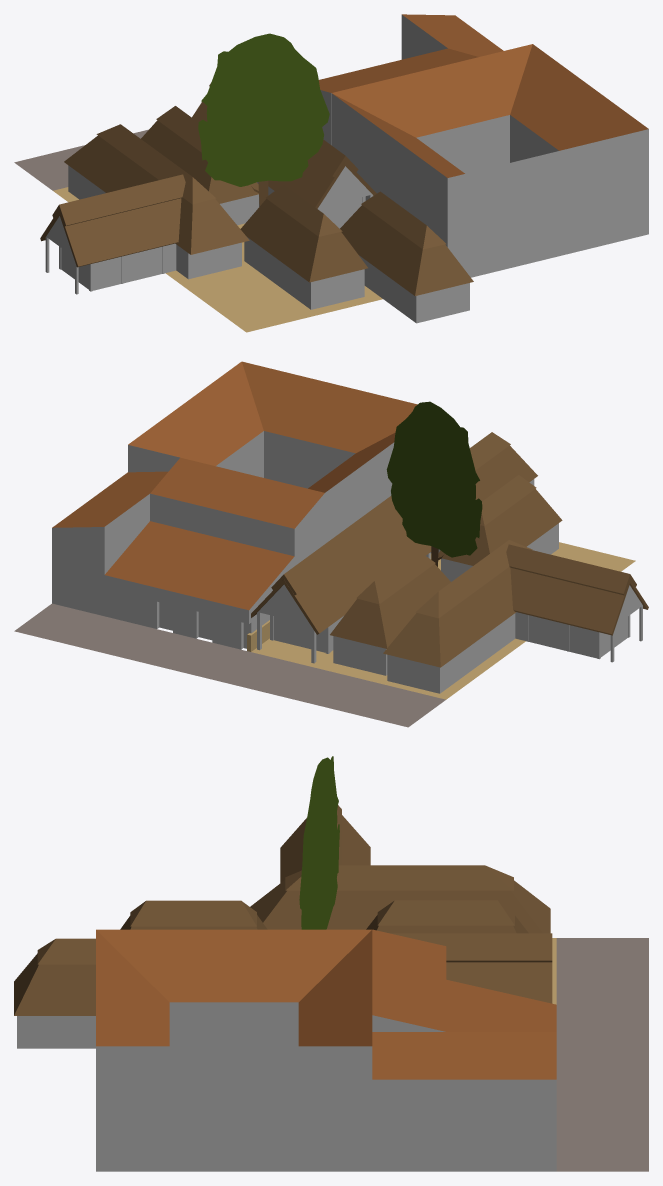
The picture shows the model from 3 angles, top to bottom: view 1: azimuth 30°, elevation 25°; view 2: azimuth 150°, elevation 25°; view 3: azimuth 270°, elevation 25°; orthographic projection. The views are drawn at different scales.
Visible parts, largest first — view 1: rr21; view 2: rr21; view 3: rr21.
Boxes of the visible parts, x1=… form: rr21: x1=14, y1=14, x2=648, y2=332; rr21: x1=14, y1=361, x2=648, y2=727; rr21: x1=14, y1=756, x2=648, y2=1171.
Size of the model in its own units: 36.76 by 14.41 by 34.44.
